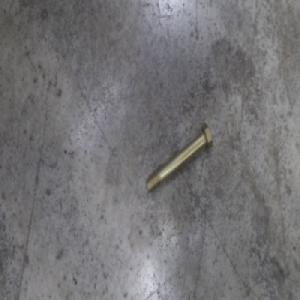Bolt: (145, 122, 213, 194)
